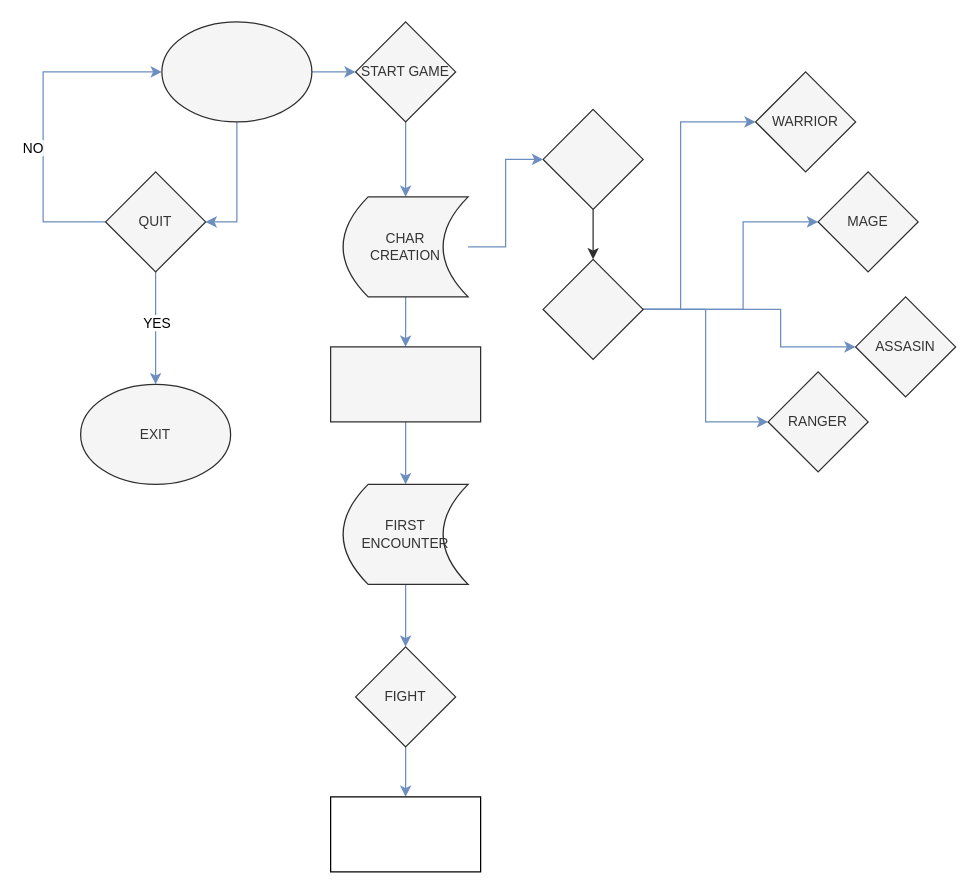
Image size: 978x894. Some labels were removed from this diagram. Here are the shapes that lost their labels. From the top down, the box of each, then its label:
(161, 21, 312, 122): MAIN MENU
(542, 108, 643, 209): MALE / FEMALE
(542, 258, 643, 359): CLASSES
(329, 346, 481, 422): INTRODUCTION
(329, 796, 481, 872): BATTLE PHASE
